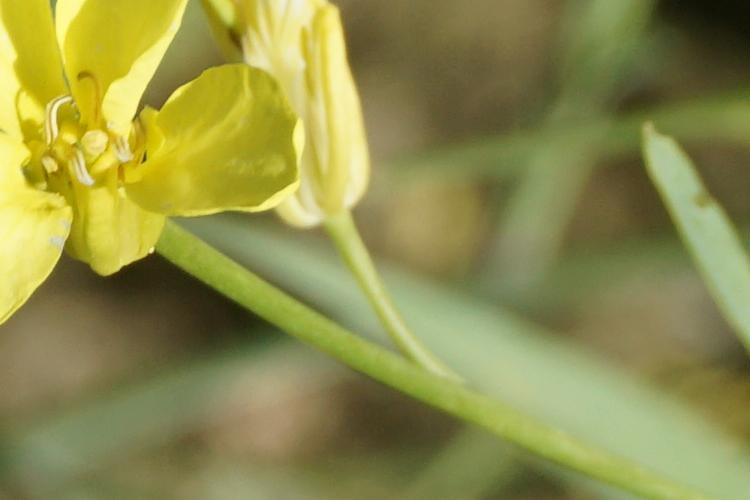yellow: (1, 1, 294, 318), (202, 1, 392, 236)
